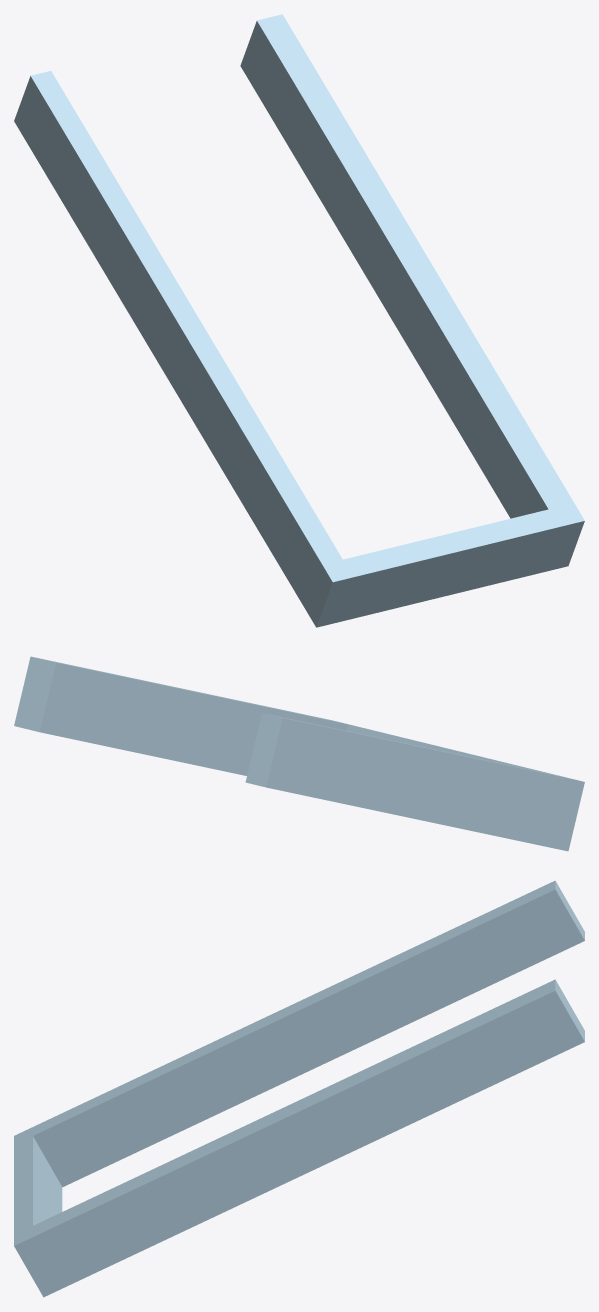
File: ElevatorStage2.glb
3 views of the same model, one above another, from view 1: azimuth 30°, elevation 25°; view 2: azimuth 150°, elevation 25°; view 3: azimuth 270°, elevation 25° (orthographic). The views are drawn at different scales.
Parts seen in each view (by area): view 1: Part 5; view 2: Part 5; view 3: Part 5.
Part boxes in pixels (bbox=[...]): Part 5: bbox=[14, 14, 584, 627]; Part 5: bbox=[14, 656, 584, 851]; Part 5: bbox=[14, 880, 584, 1297].
Bounding box in the file's own units: 0.3103 × 0.403 × 0.6796.
